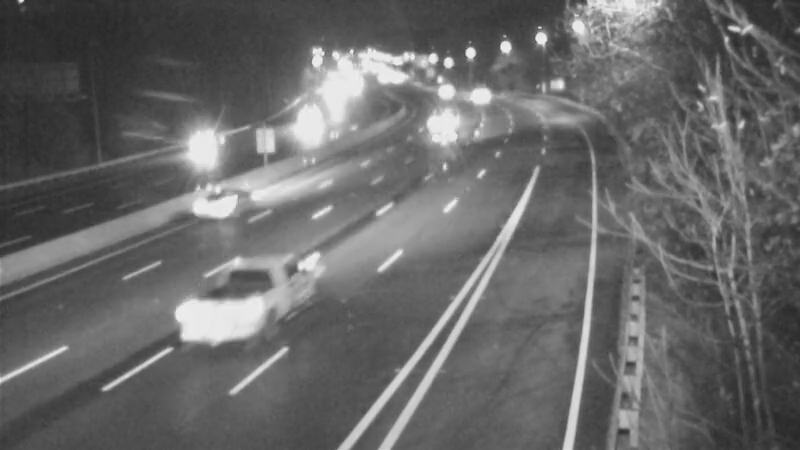vehicle: (156, 260, 266, 370), (176, 165, 256, 245), (462, 69, 512, 119), (422, 64, 472, 114), (411, 92, 461, 142), (421, 115, 471, 165), (193, 124, 243, 174), (280, 101, 330, 151)
